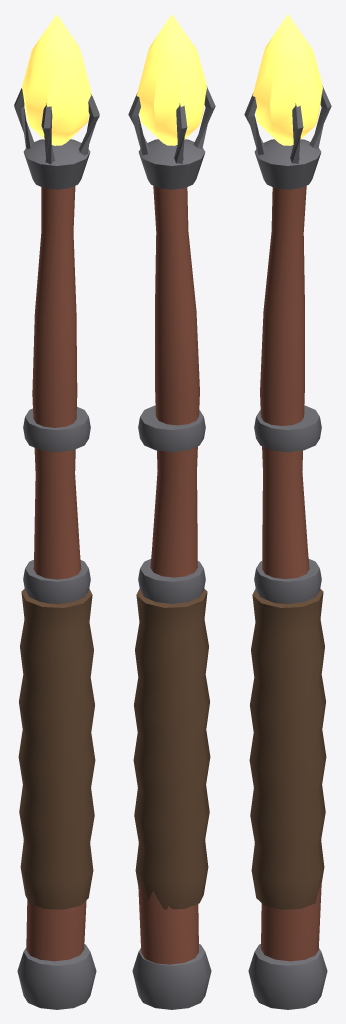
File: depth_embercrown_wand.glb
3 renders of one model, left to right at view 1: azimuth 30°, elevation 25°; view 2: azimuth 150°, elevation 25°; view 3: azimuth 330°, elevation 25°, orthographic.
Visible parts, largest first — view 1: depth_embercrown_wand; view 2: depth_embercrown_wand; view 3: depth_embercrown_wand.
Boxes of the visible parts, left/top/right/bottom form: depth_embercrown_wand: left=14, top=14, right=99, bottom=1009; depth_embercrown_wand: left=128, top=14, right=215, bottom=1009; depth_embercrown_wand: left=244, top=14, right=331, bottom=1009.
Bounding box in the file's own units: 0.026 × 0.36 × 0.026.
